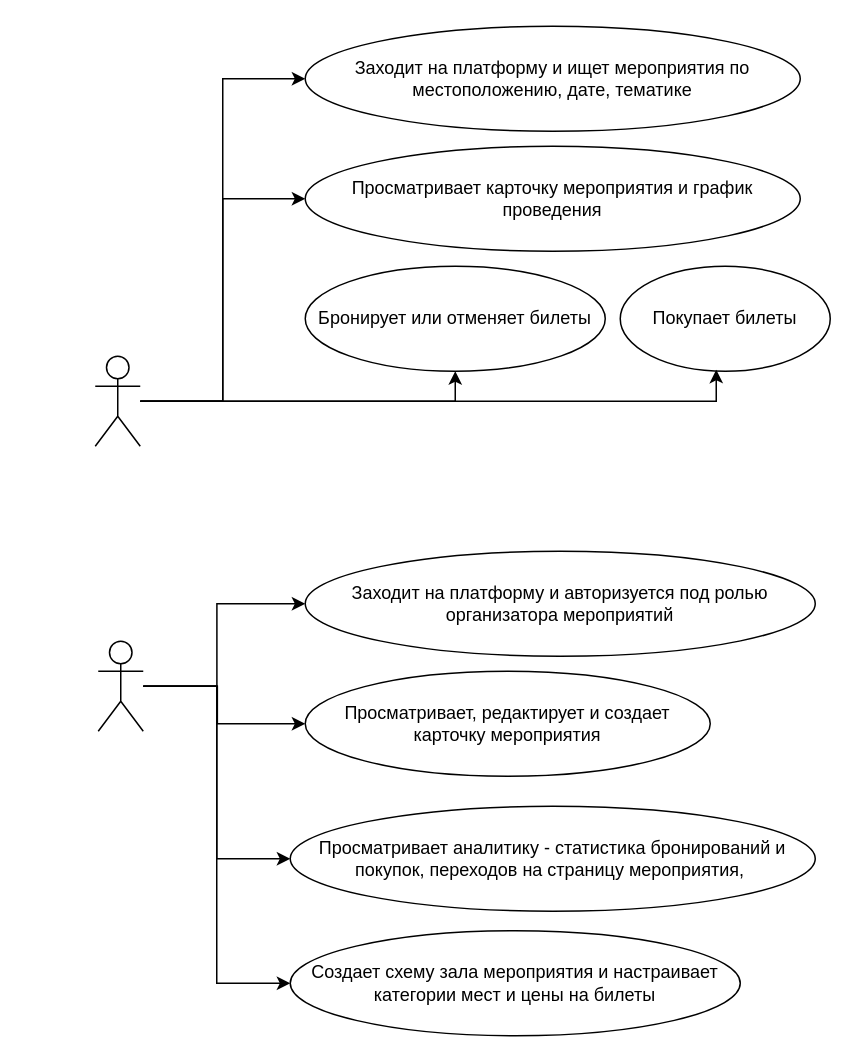
Image size: 857x1062. Some labels were removed from this diagram. Each missing label, with the centre of its shape:
Организатор: [120,685]
Пользователь/ клиент: [117,400]
